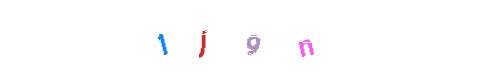1: (122, 0, 202, 80)
9: (210, 0, 290, 80)
J: (162, 0, 242, 80)
N: (224, 0, 304, 80)
